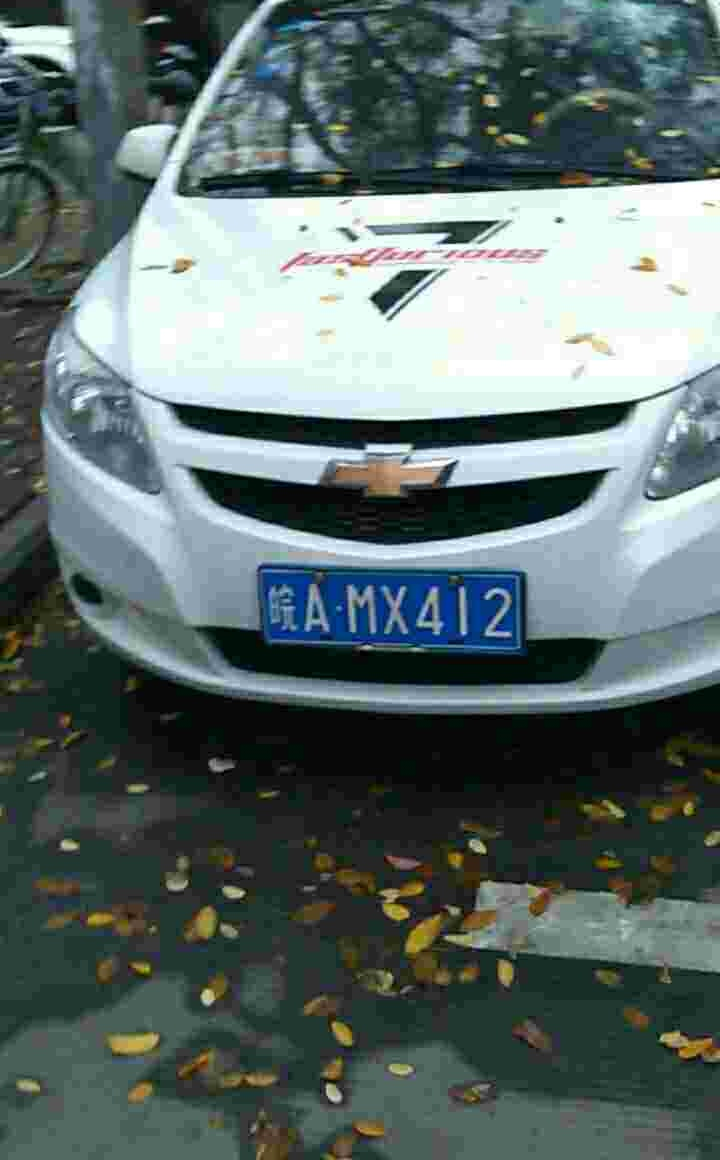license_plate: (247, 573, 541, 658)
